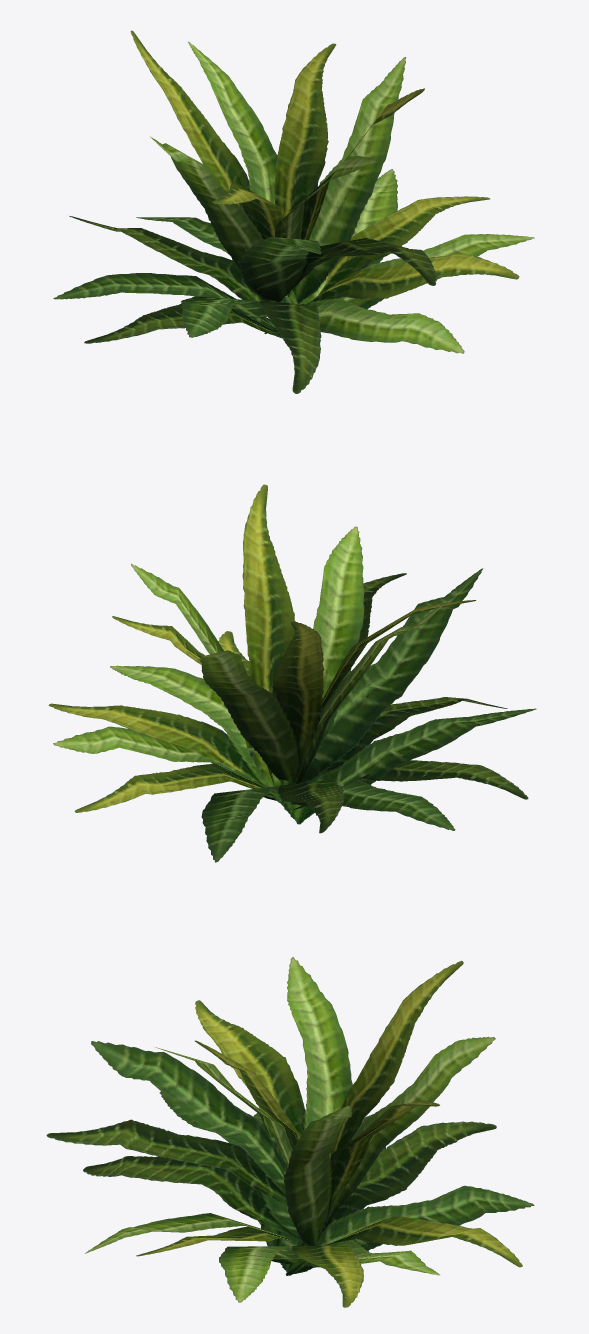
Rendered from wlf_cao03_w.FBX.
3 renders of one model, top to bottom at view 1: azimuth 30°, elevation 25°; view 2: azimuth 150°, elevation 25°; view 3: azimuth 270°, elevation 25°, orthographic.
Parts seen in each view (by area): view 1: wlf_cao03_w; view 2: wlf_cao03_w; view 3: wlf_cao03_w.
Part boxes in pixels (left/top/right/bottom): wlf_cao03_w: left=53, top=30, right=534, bottom=393; wlf_cao03_w: left=48, top=484, right=536, bottom=862; wlf_cao03_w: left=46, top=957, right=534, bottom=1307.
Size of the model in its own units: 2180 by 1346 by 2187.
